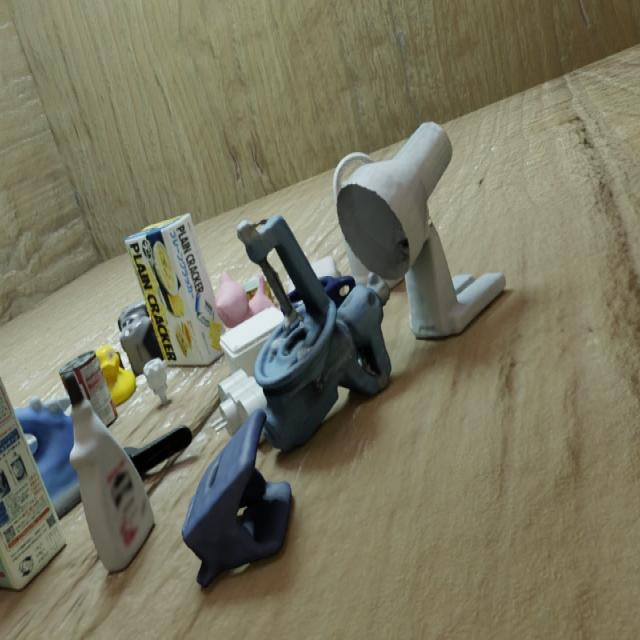Other Objects: (333, 121, 504, 339), (238, 215, 390, 451), (182, 409, 291, 587), (63, 380, 154, 572), (125, 213, 221, 365), (0, 379, 65, 589), (15, 401, 80, 516), (59, 351, 116, 425), (221, 307, 284, 373), (124, 425, 192, 479), (118, 303, 161, 376), (96, 345, 136, 405), (215, 273, 251, 327), (143, 359, 169, 404), (311, 256, 338, 279)
